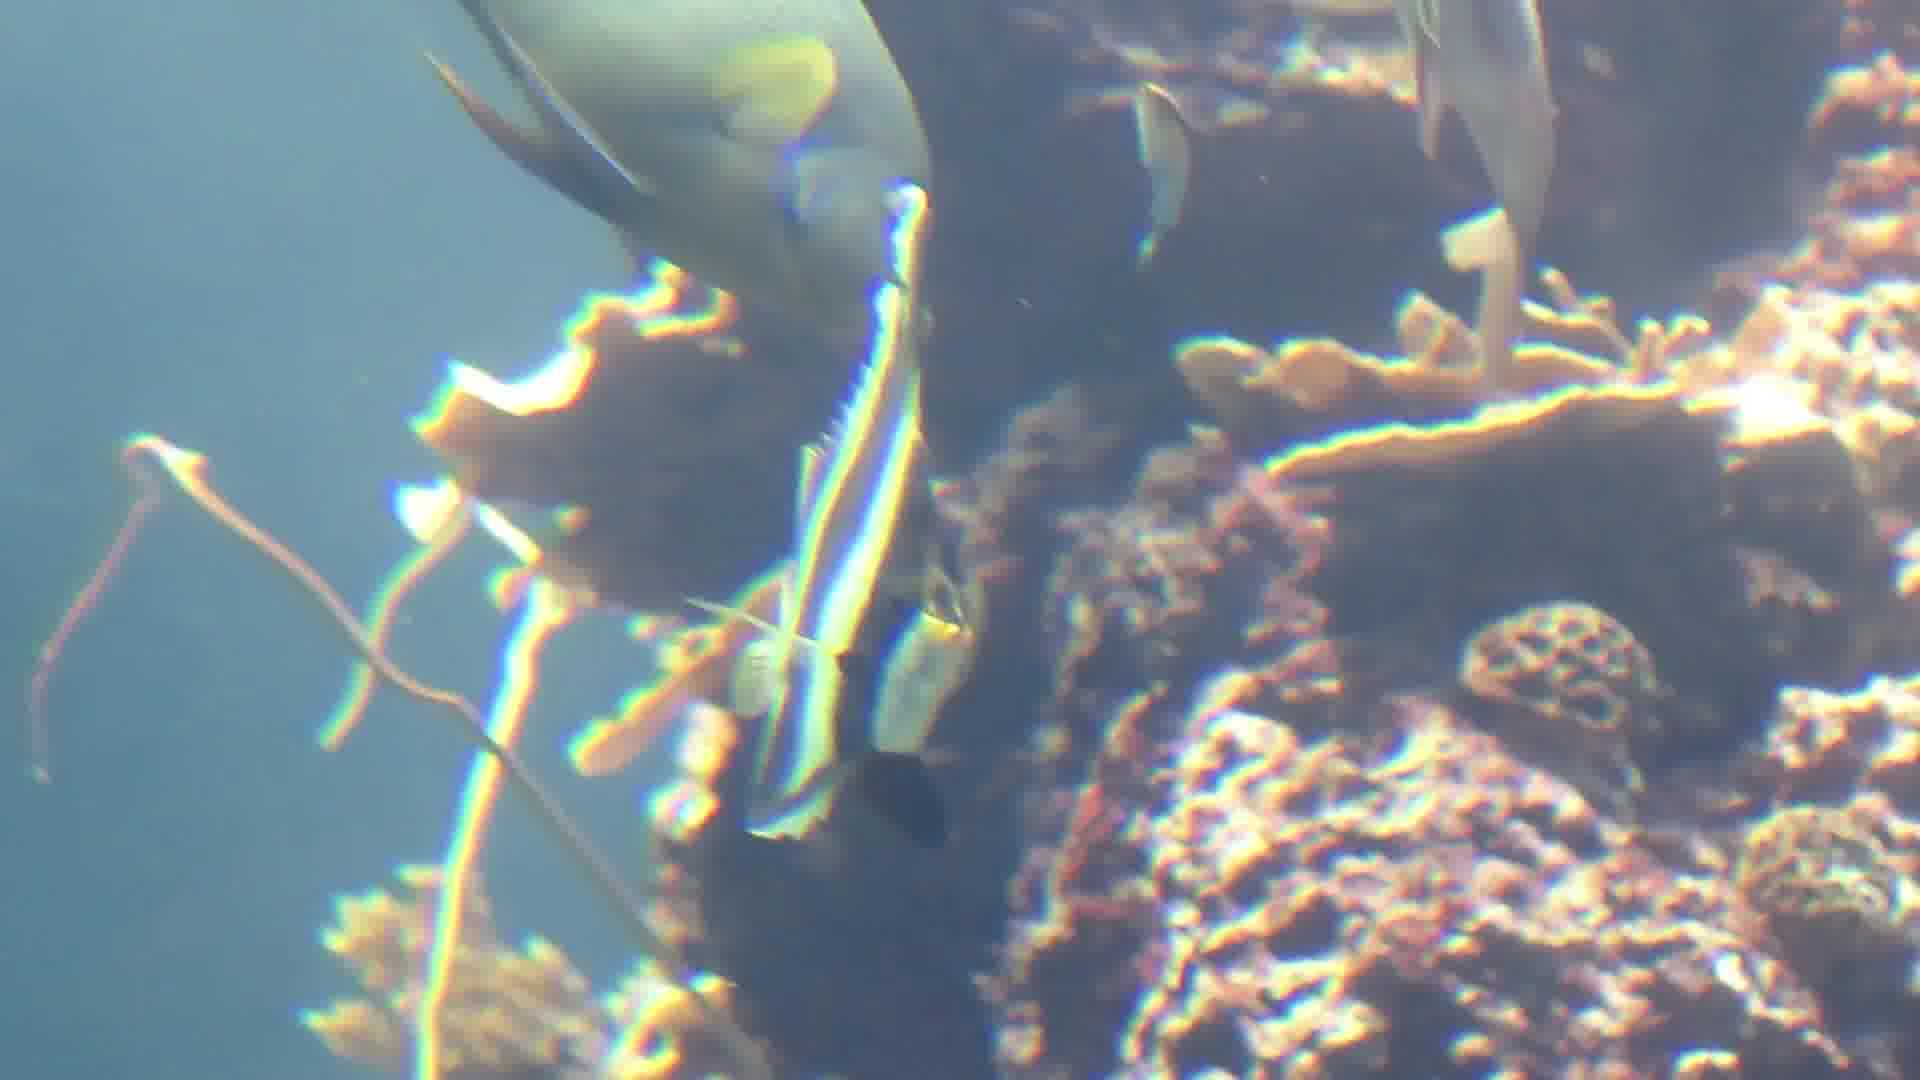Heniochus chrysostomus: (663, 156, 1106, 899)
